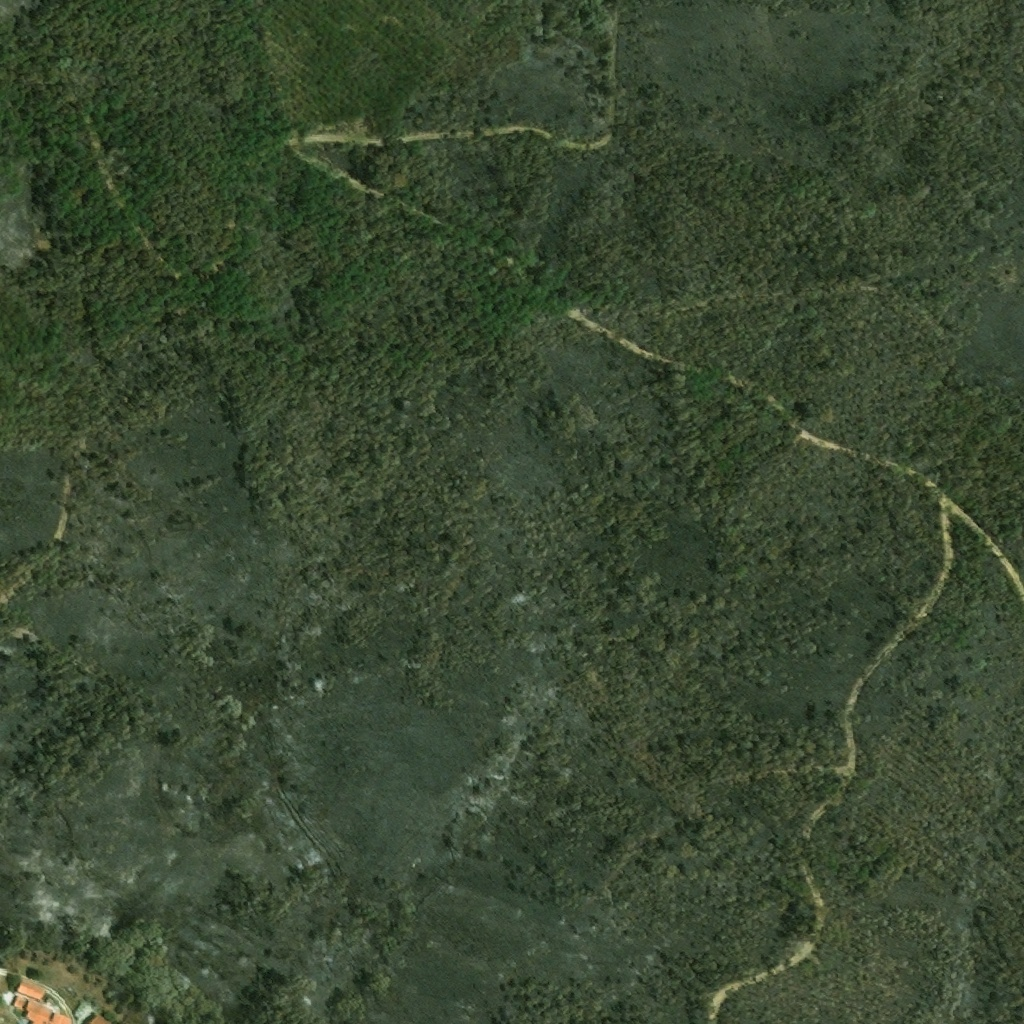0 no-damage: (12, 993, 73, 1023), (16, 977, 47, 1001), (82, 1010, 112, 1023)
